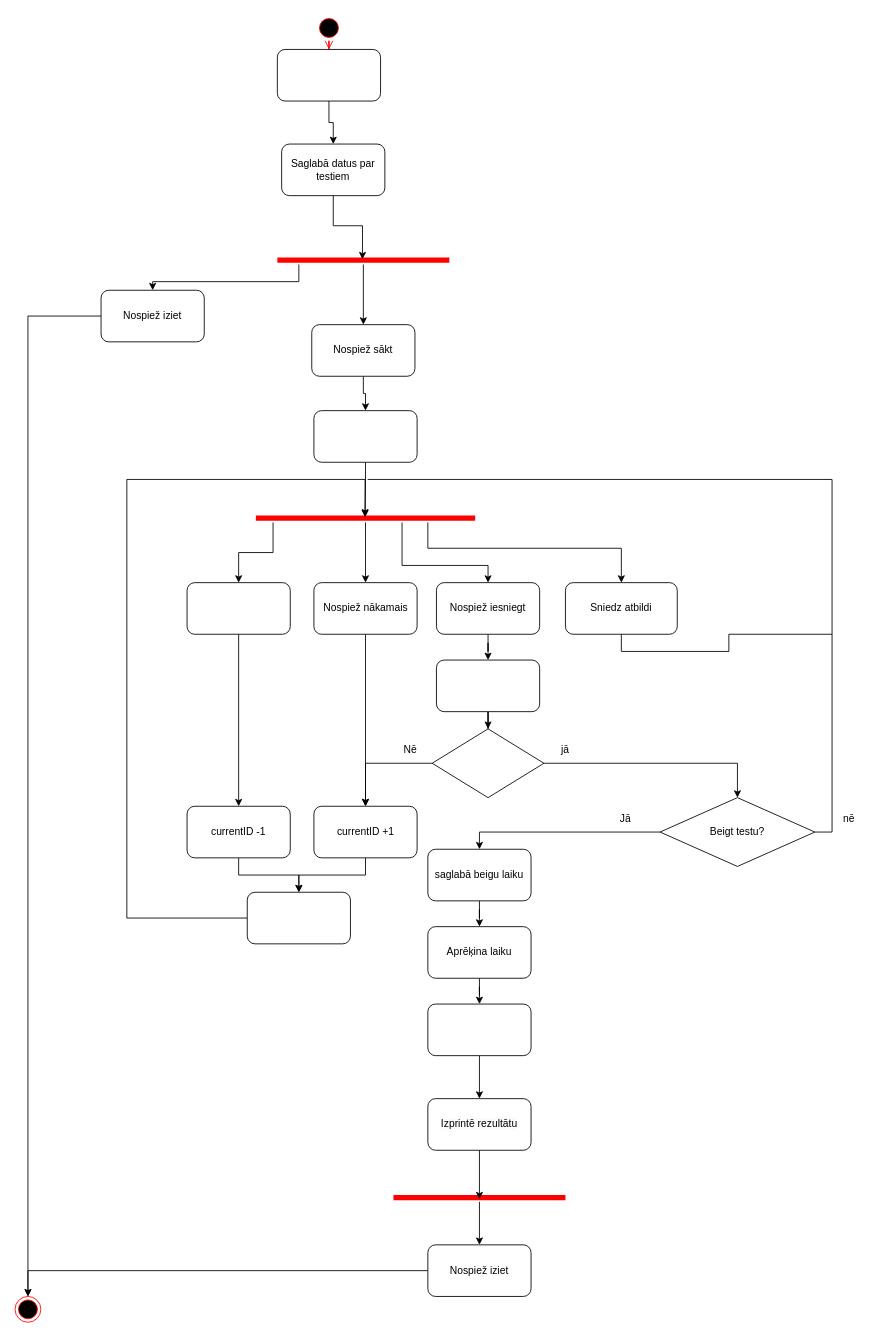
Some shapes in this 890 by 1337 pixel diagram are drawn without their labels. The shapes that lost their labels are listed below. From the top down, each one's centre as x and y in pixels, then its label:
At [328,75]: "Startē programmu".
At [365,436]: "Saglabā sākuma laiku".
At [238,608]: "Nospiež iepriekšējais".
At [488,685]: "Saglabā testa atbildi".
At [487,763]: "Pēdējais tests".
At [298,917]: "Liek testu pēc id".
At [479,1029]: "Salīdzina atbildes".
